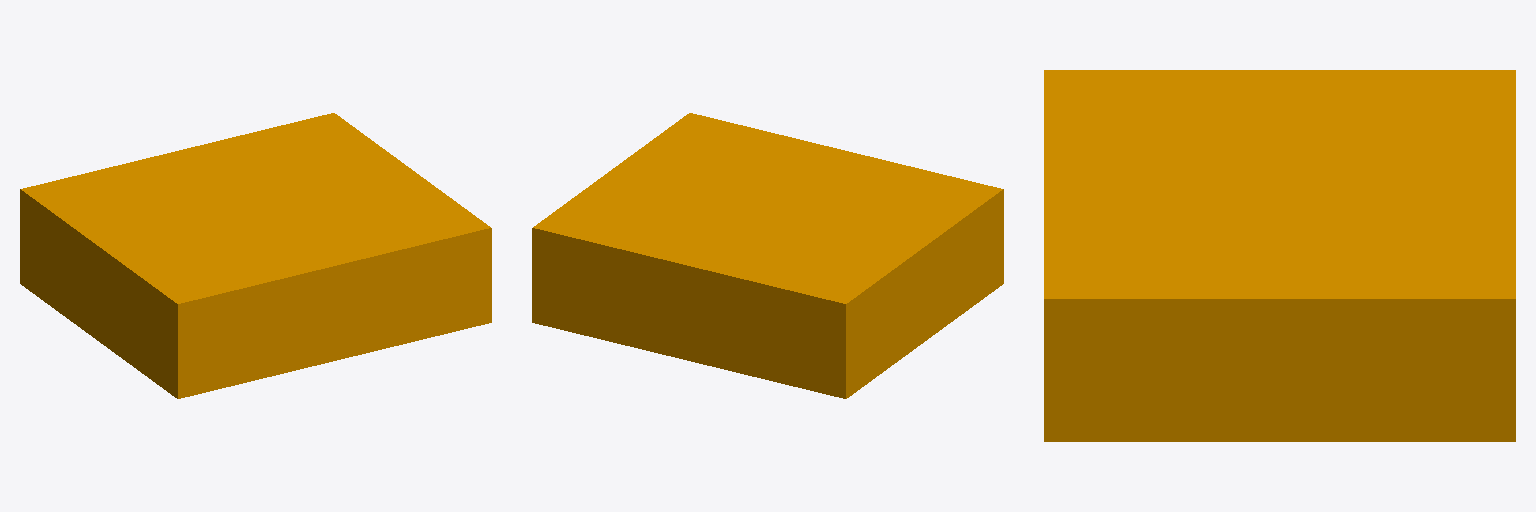
The robot description file, URDF, robot "2x2":
<?xml version='1.0' encoding='UTF-8'?>
<robot name="2x2">
  <link name="base_link">
    <inertial>
      <origin xyz="0.0 0.0 0.0" rpy="0.0 0.0 0.0"/>
      <mass value="0.1"/>
      <inertia ixx="0.1" ixy="0.0" ixz="0.0" iyy="0.1" iyz="0.0" izz="0.1"/>
    </inertial>
    <visual>
      <geometry>
        <box size="0.038 0.033 0.011"/>
      </geometry>
      <material name=""/>
      <origin xyz="0.0 0.0 0.0" rpy="0.0 0.0 0.0"/>
    </visual>
    <collision>
      <geometry>
        <box size="0.038 0.033 0.011"/>
      </geometry>
      <origin xyz="0.0 0.0 0.0" rpy="0.0 0.0 0.0"/>
    </collision>
  </link>
  <material name="">
    <color rgba="0.76727 0.42332 0.83214 1.     "/>
  </material>
  <contact>
    <lateral_friction value="1.0"/>
    <rolling_friction value="0.0"/>
    <contact_cfm value="0.0"/>
    <contact_erp value="1.0"/>
  </contact>
</robot>

--- Render facts (derived) ---
3 views of the same robot in one strip: view 1: azimuth 30°, elevation 25°; view 2: azimuth 150°, elevation 25°; view 3: azimuth 270°, elevation 25° (orthographic).
Model 2x2 with 1 links and 0 joints (none), rooted at base_link, posed all joints at 0.
Visible links, largest first — view 1: base_link; view 2: base_link; view 3: base_link.
Link boxes in pixels (x1=…): base_link: x1=20, y1=113, x2=491, y2=398; base_link: x1=532, y1=113, x2=1003, y2=398; base_link: x1=1044, y1=70, x2=1515, y2=441.
Size in the robot's own frame: 0.038 by 0.033 by 0.011 metres.
Geometry: primitives only (box / cylinder / sphere), no mesh files.